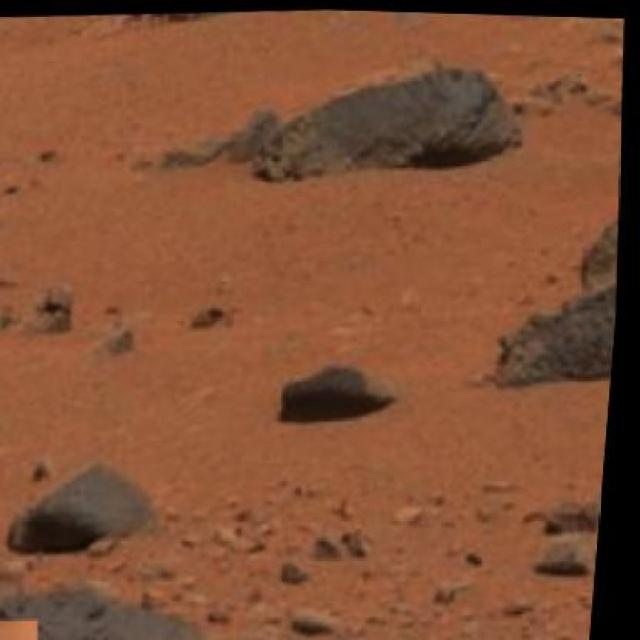rock: (250, 51, 532, 187), (490, 199, 627, 387), (9, 454, 168, 558), (0, 574, 242, 638), (286, 356, 406, 419), (149, 4, 426, 31)
